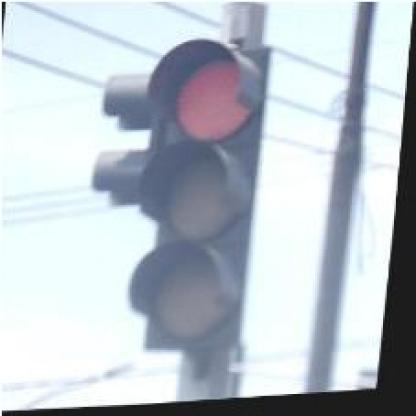red: (128, 36, 272, 356)
